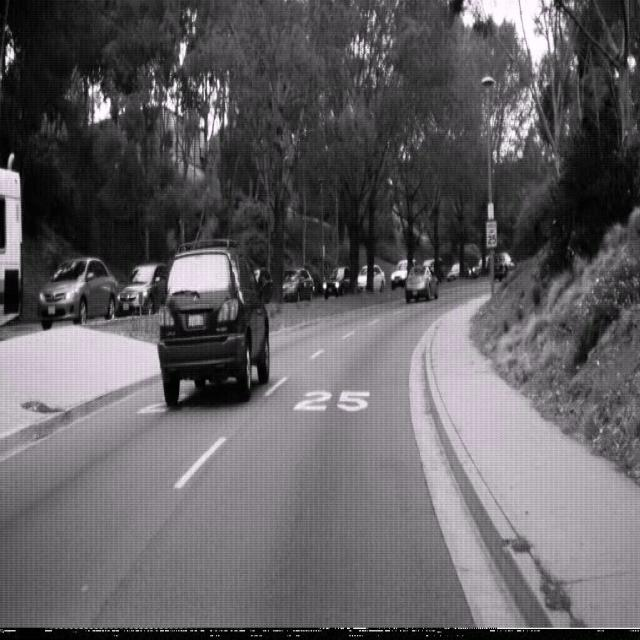speedLimit25: (485, 218, 497, 249)
